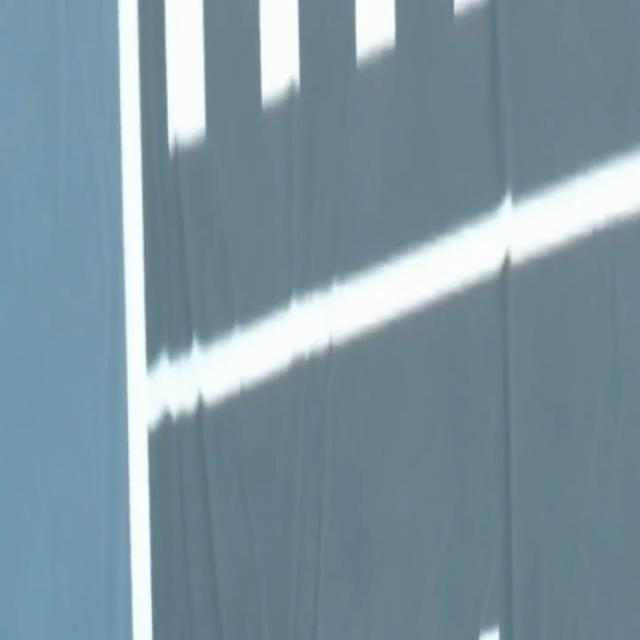center: (478, 627, 500, 639)
left: (118, 0, 152, 639)
